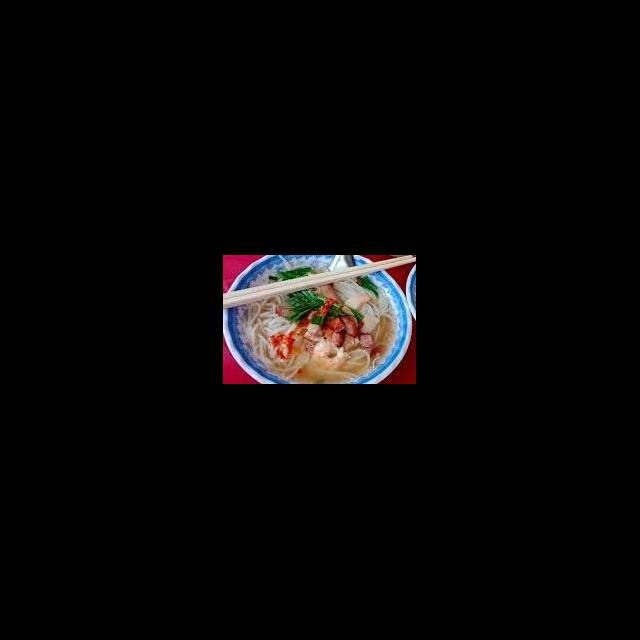bun: (238, 292, 314, 384), (333, 270, 402, 324)
thit heo quay: (318, 278, 362, 338), (312, 300, 348, 334)
tom: (311, 336, 348, 372)
